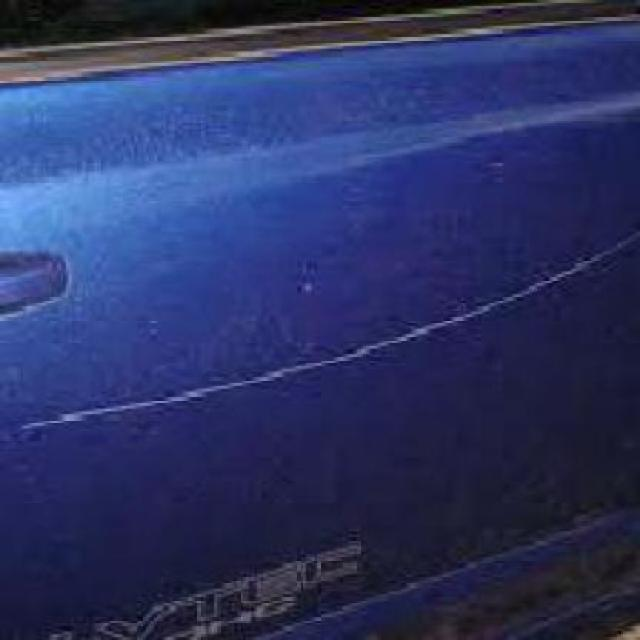dent-or-scratch: (20, 194, 637, 434)
